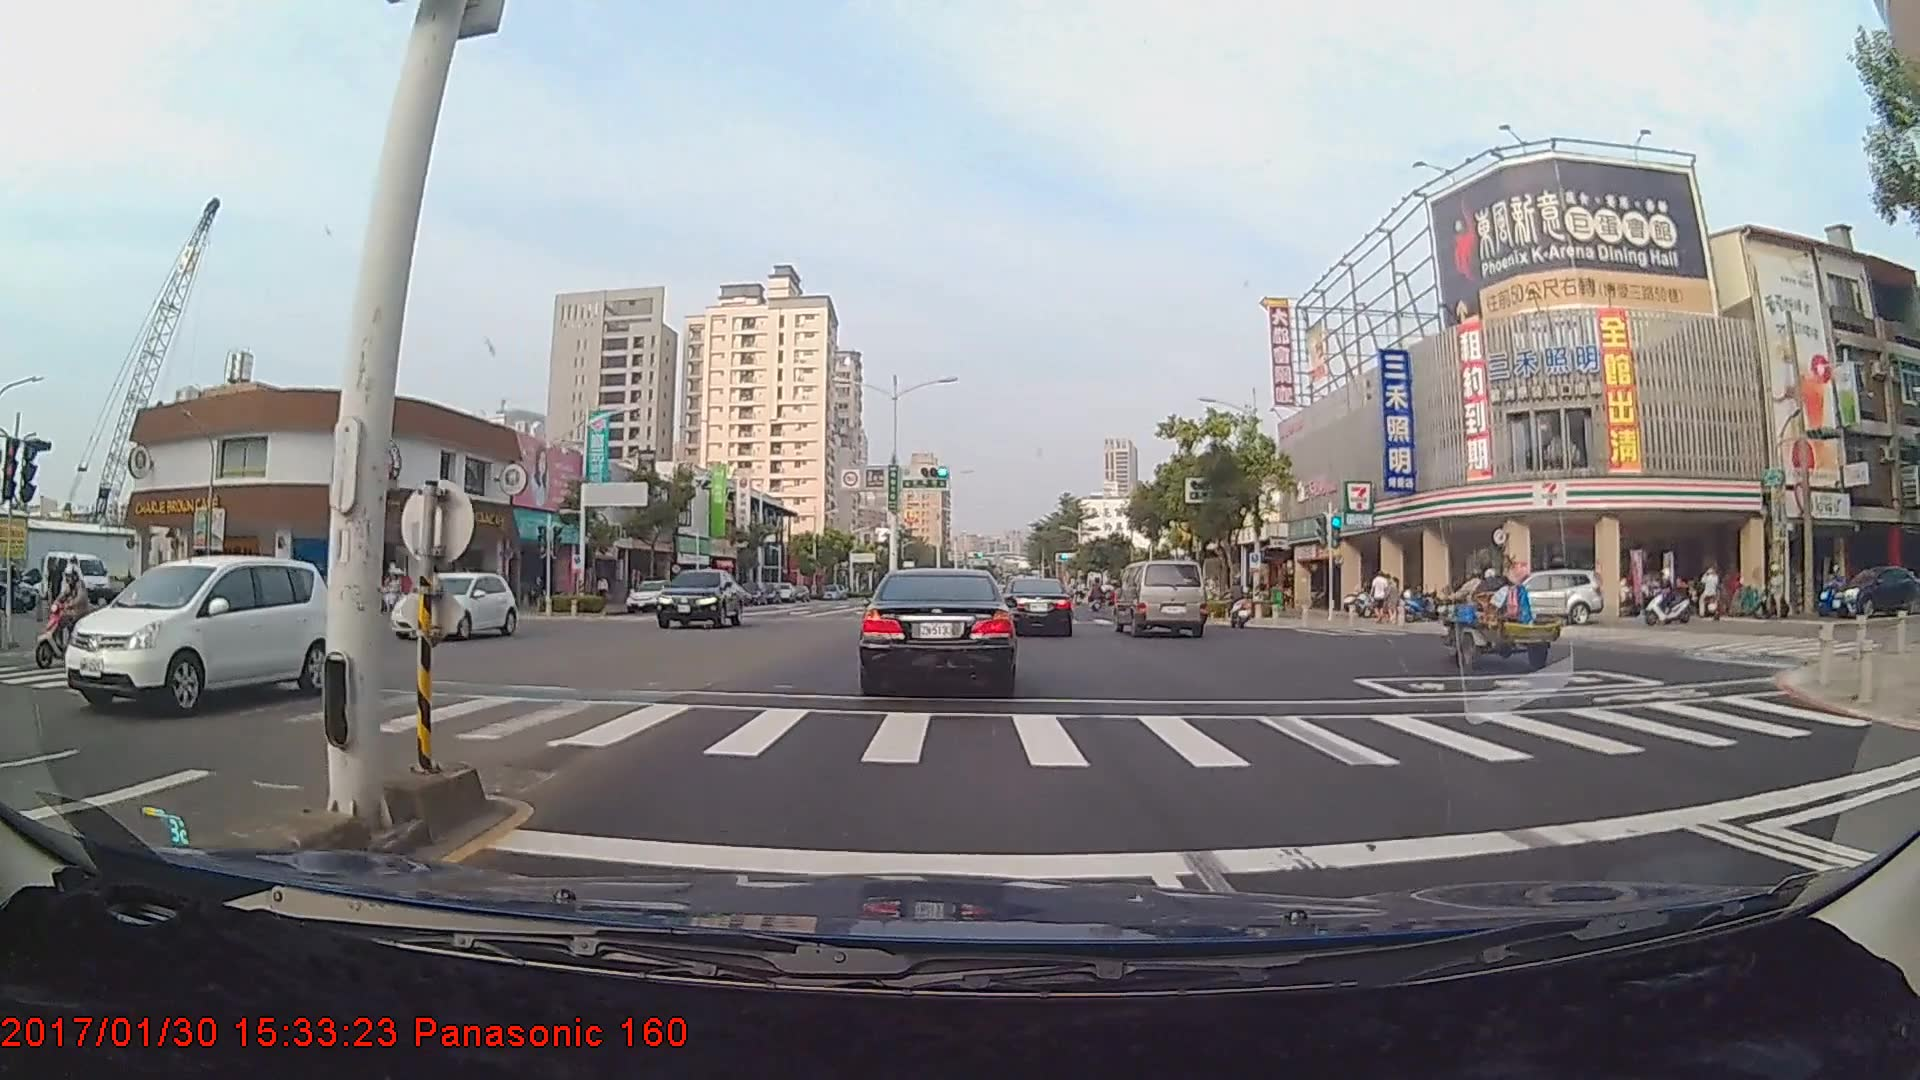pedestrian: (46, 555, 66, 619), (1369, 570, 1389, 624)
rider: (35, 557, 111, 673), (1639, 566, 1704, 634), (1216, 580, 1255, 634)
vehicle: (65, 553, 332, 708), (858, 562, 1017, 690), (385, 570, 513, 645), (1451, 573, 1598, 631), (1116, 559, 1205, 639), (655, 567, 745, 630), (1001, 577, 1074, 637), (623, 578, 674, 613)
